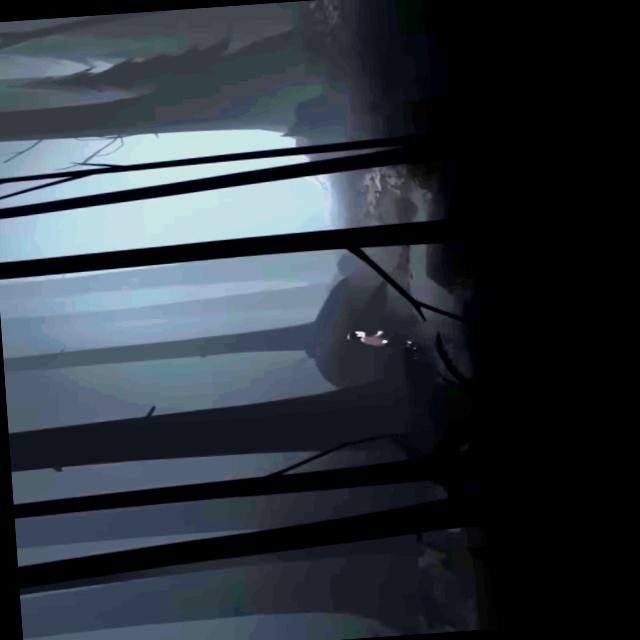boy: (347, 327, 416, 353)
